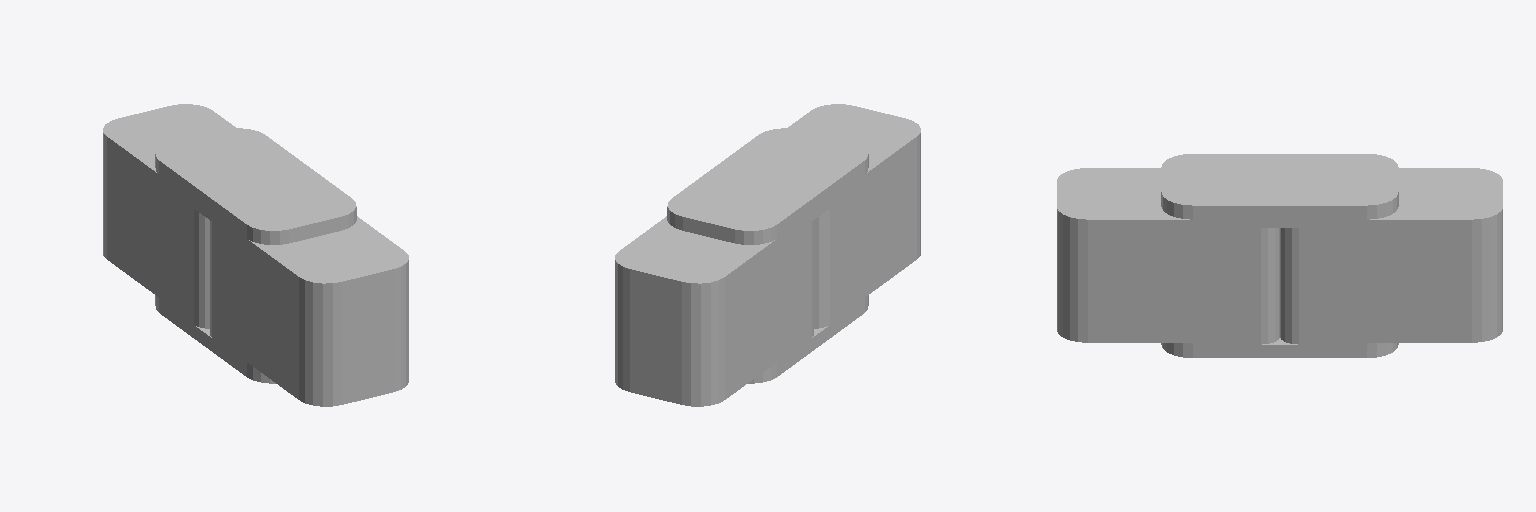
3 views of the same model, side by side, from view 1: azimuth 30°, elevation 25°; view 2: azimuth 150°, elevation 25°; view 3: azimuth 270°, elevation 25° (orthographic).
Visible parts, largest first — view 1: link_1.0; view 2: link_1.0; view 3: link_1.0.
Boxes of the visible parts, x1=… form: link_1.0: x1=103, y1=104, x2=408, y2=406; link_1.0: x1=615, y1=104, x2=920, y2=406; link_1.0: x1=1057, y1=154, x2=1502, y2=357.
Bounding box in the file's own units: 0.0196 × 0.027 × 0.0716.